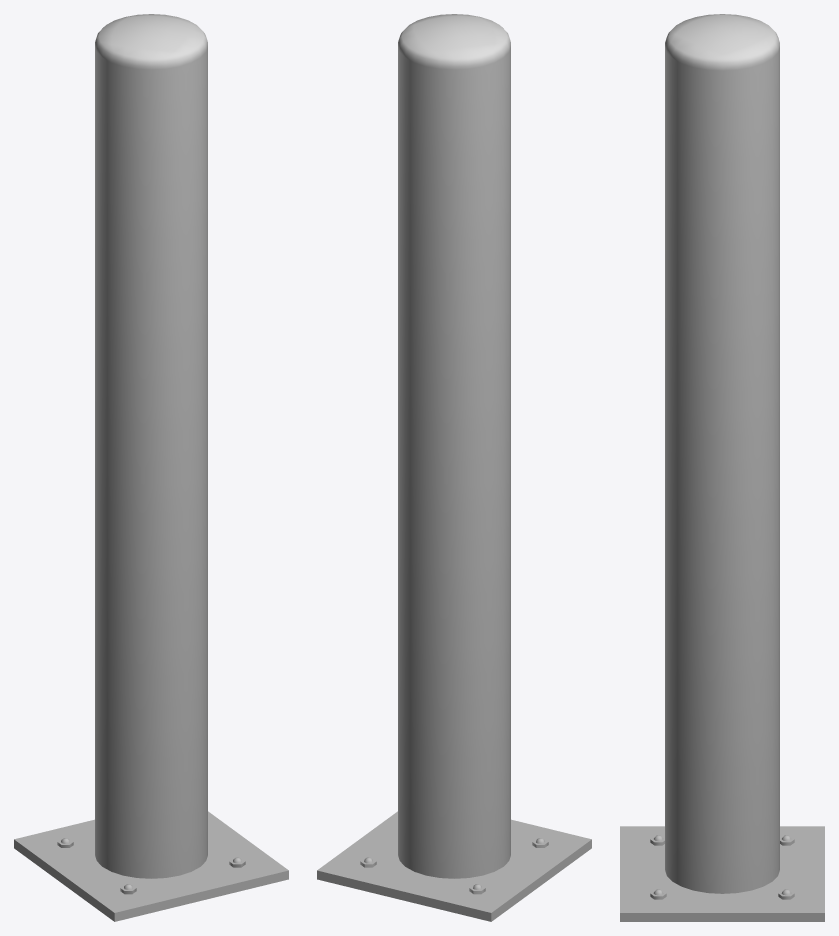
The model's file is traffic_bollard_01_metal_small.glb.
3 renders of one model, left to right at view 1: azimuth 30°, elevation 25°; view 2: azimuth 150°, elevation 25°; view 3: azimuth 270°, elevation 25°, orthographic.
Visible parts, largest first — view 1: traffic_bollard_01_metal_small; view 2: traffic_bollard_01_metal_small; view 3: traffic_bollard_01_metal_small.
Boxes of the visible parts, x1,y1,x2,y2 form: traffic_bollard_01_metal_small: (14, 14, 288, 921); traffic_bollard_01_metal_small: (317, 14, 591, 921); traffic_bollard_01_metal_small: (620, 14, 824, 921).
Size of the model in its own units: 0.2032 by 0.9315 by 0.2032.
1 material, 1 textured.
